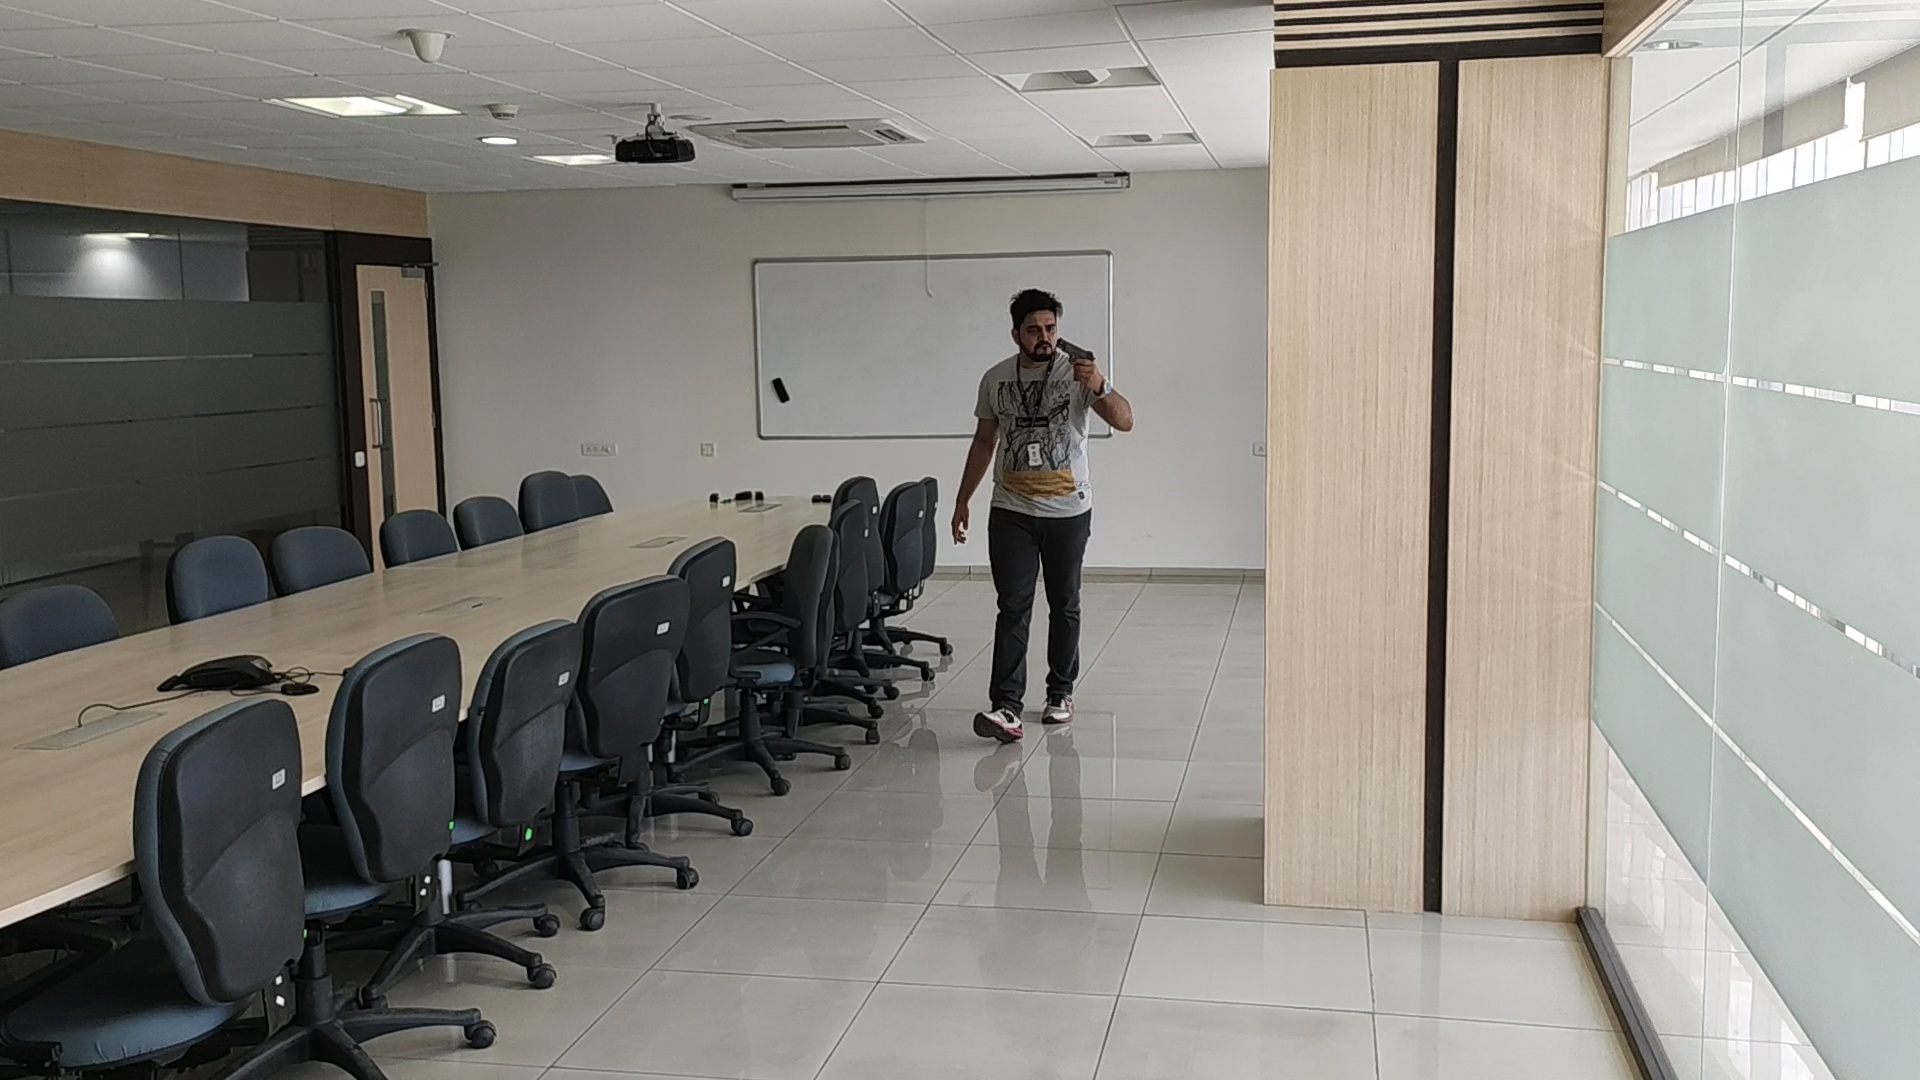gun: (1056, 338, 1096, 360)
